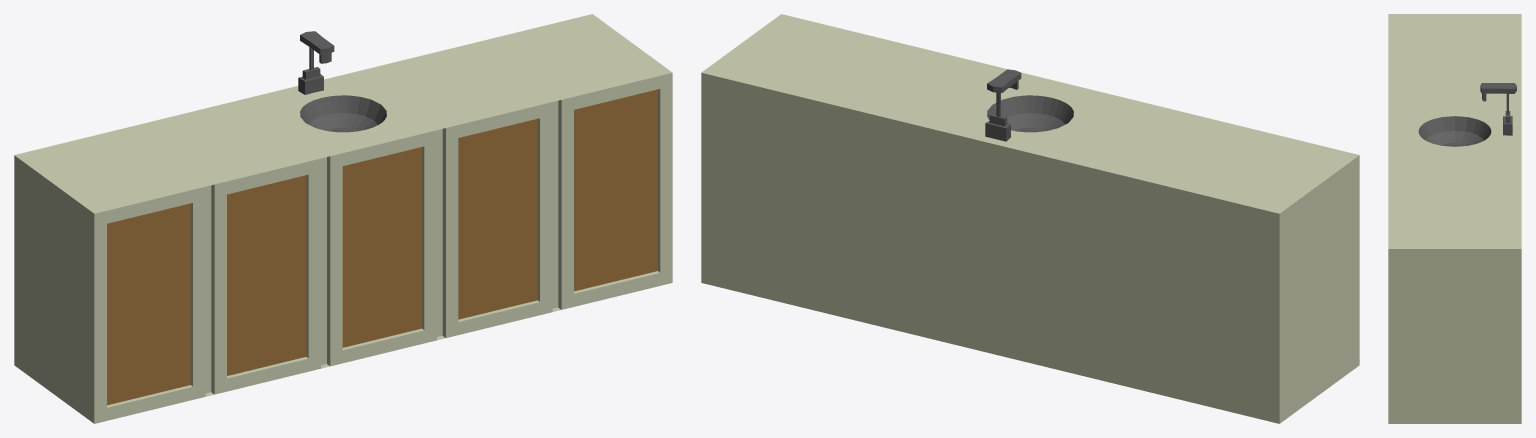
The model's file is Tap_Material.fbx.
The picture shows the model from 3 angles, left to right: view 1: azimuth 30°, elevation 25°; view 2: azimuth 150°, elevation 25°; view 3: azimuth 270°, elevation 25°; orthographic projection. The views are drawn at different scales.
Parts seen in each view (by area): view 1: Tap; view 2: Tap; view 3: Tap.
Part boxes in pixels (box(x1,y1,x2,y2)): Tap: box(14, 14, 672, 423); Tap: box(701, 14, 1359, 423); Tap: box(1388, 14, 1521, 423).
Size of the model in its own units: 1.93 by 0.8444 by 0.4635.
